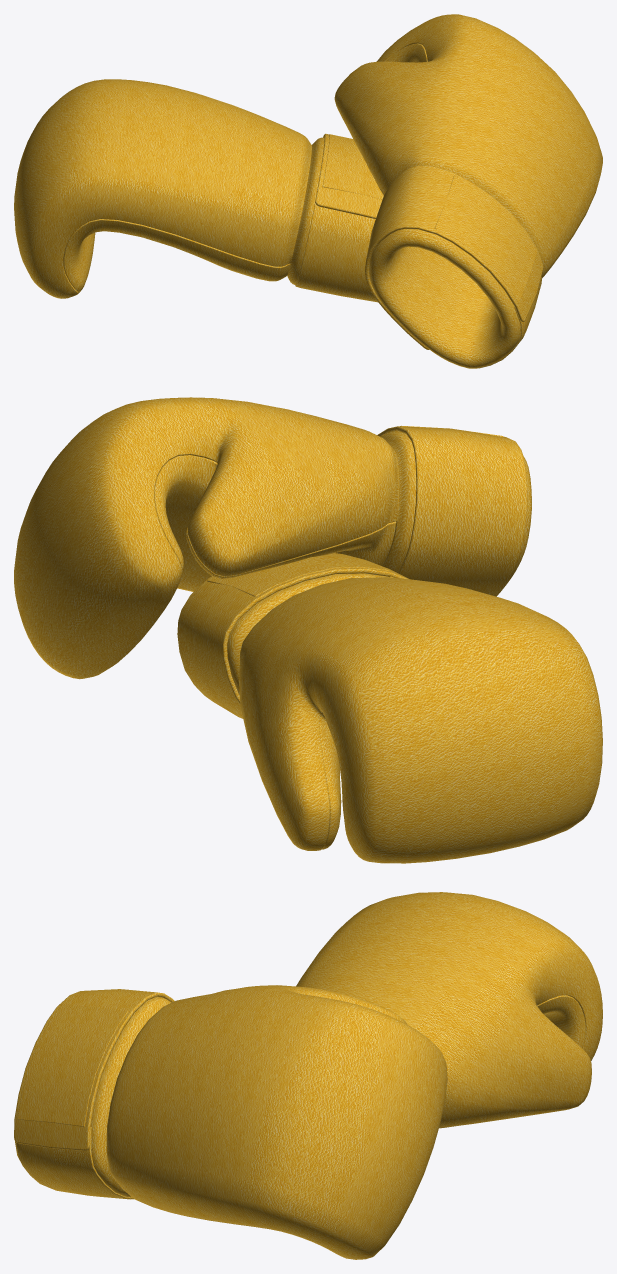
File: rękawice bokserskie029.fbx
3 views of the same model, one above another, from view 1: azimuth 30°, elevation 25°; view 2: azimuth 150°, elevation 25°; view 3: azimuth 270°, elevation 25° (orthographic). The views are drawn at different scales.
Visible parts, largest first — view 1: rękawice bokserskie029; view 2: rękawice bokserskie029; view 3: rękawice bokserskie029.
Boxes of the visible parts, bbox=[...] form: rękawice bokserskie029: bbox=[14, 14, 602, 368]; rękawice bokserskie029: bbox=[14, 397, 602, 863]; rękawice bokserskie029: bbox=[14, 892, 602, 1259].
Bounding box in the file's own units: 19.54 × 8.38 × 18.18.
